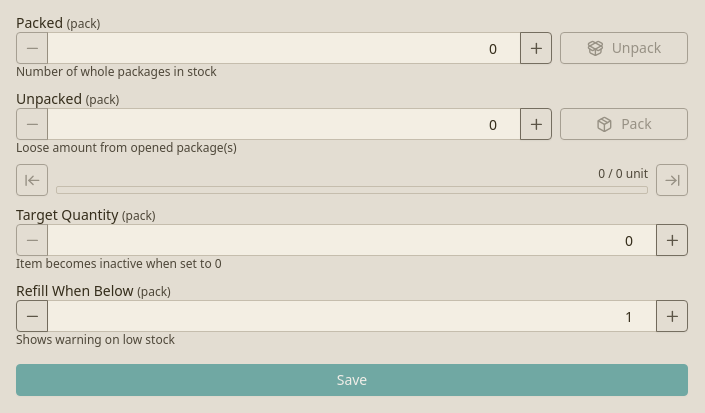
ItemForm — stock tab steppers clamp at 0 › user cannot push a field below 0 by clicking − repeatedly
This screenshot has width=705, height=413.
Click the button named "Decrease refill threshold" at (32, 316), box [16,300,48,332]
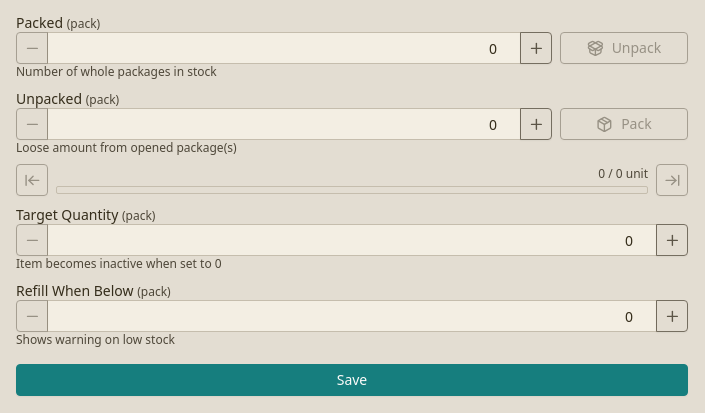
Expected: the number field labelled "Refill When Below (pack)" holds "0", [47,300,657,332]
